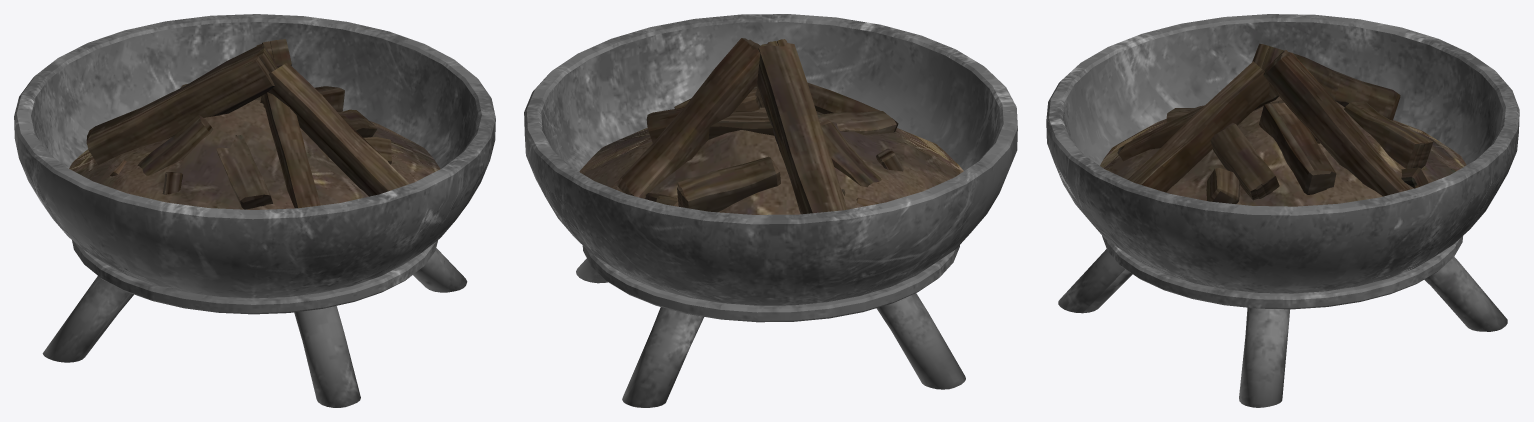
The model's file is val_pillar.glb.
3 renders of one model, left to right at view 1: azimuth 30°, elevation 25°; view 2: azimuth 150°, elevation 25°; view 3: azimuth 270°, elevation 25°, orthographic. The views are drawn at different scales.
Parts seen in each view (by area): view 1: KB3D_VAL_BldgSM_K_StoneCircleC; view 2: KB3D_VAL_BldgSM_K_StoneCircleC; view 3: KB3D_VAL_BldgSM_K_StoneCircleC.
Boxes of the visible parts, x1,y1,x2,y2 form: KB3D_VAL_BldgSM_K_StoneCircleC: [14, 14, 495, 407]; KB3D_VAL_BldgSM_K_StoneCircleC: [524, 14, 1017, 407]; KB3D_VAL_BldgSM_K_StoneCircleC: [1046, 14, 1519, 407].
Bounding box in the file's own units: 0.9561 × 0.6064 × 0.9561.
Materials: 3 (3 with a texture image).
